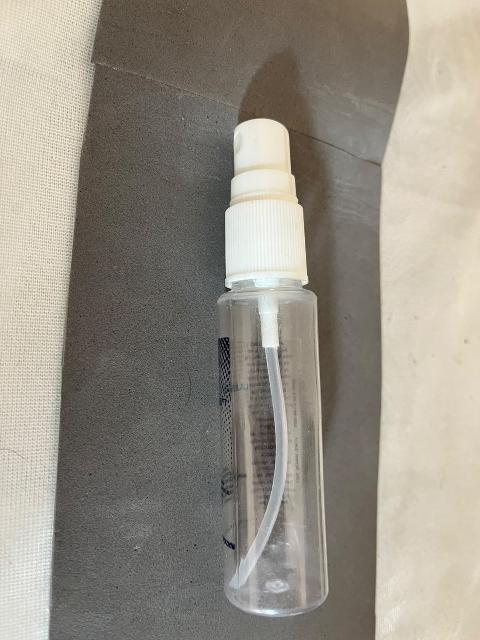PET: (167, 80, 384, 637)
